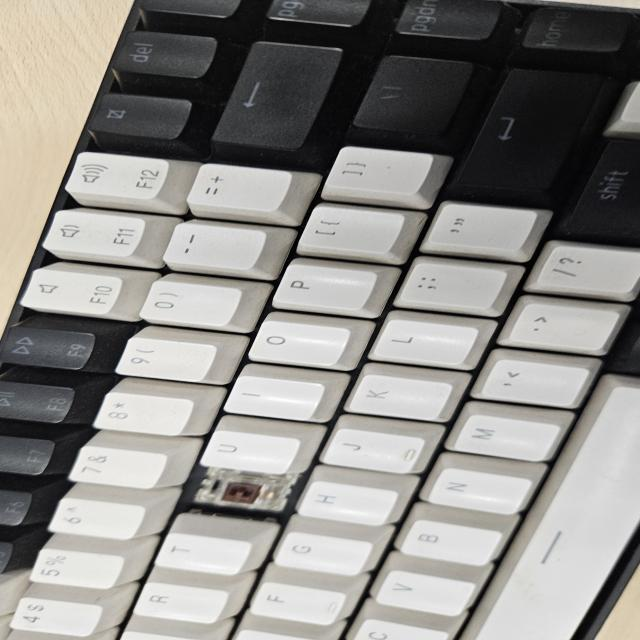C: (201, 467, 275, 517)
